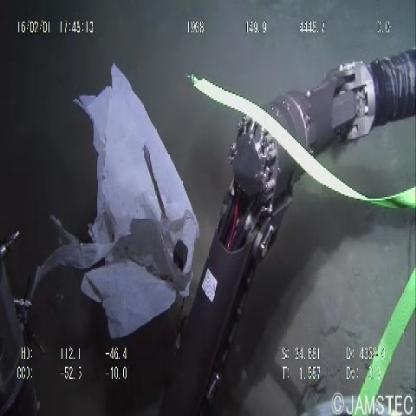Rov: (176, 45, 416, 408)
Rác: (69, 59, 201, 342)
